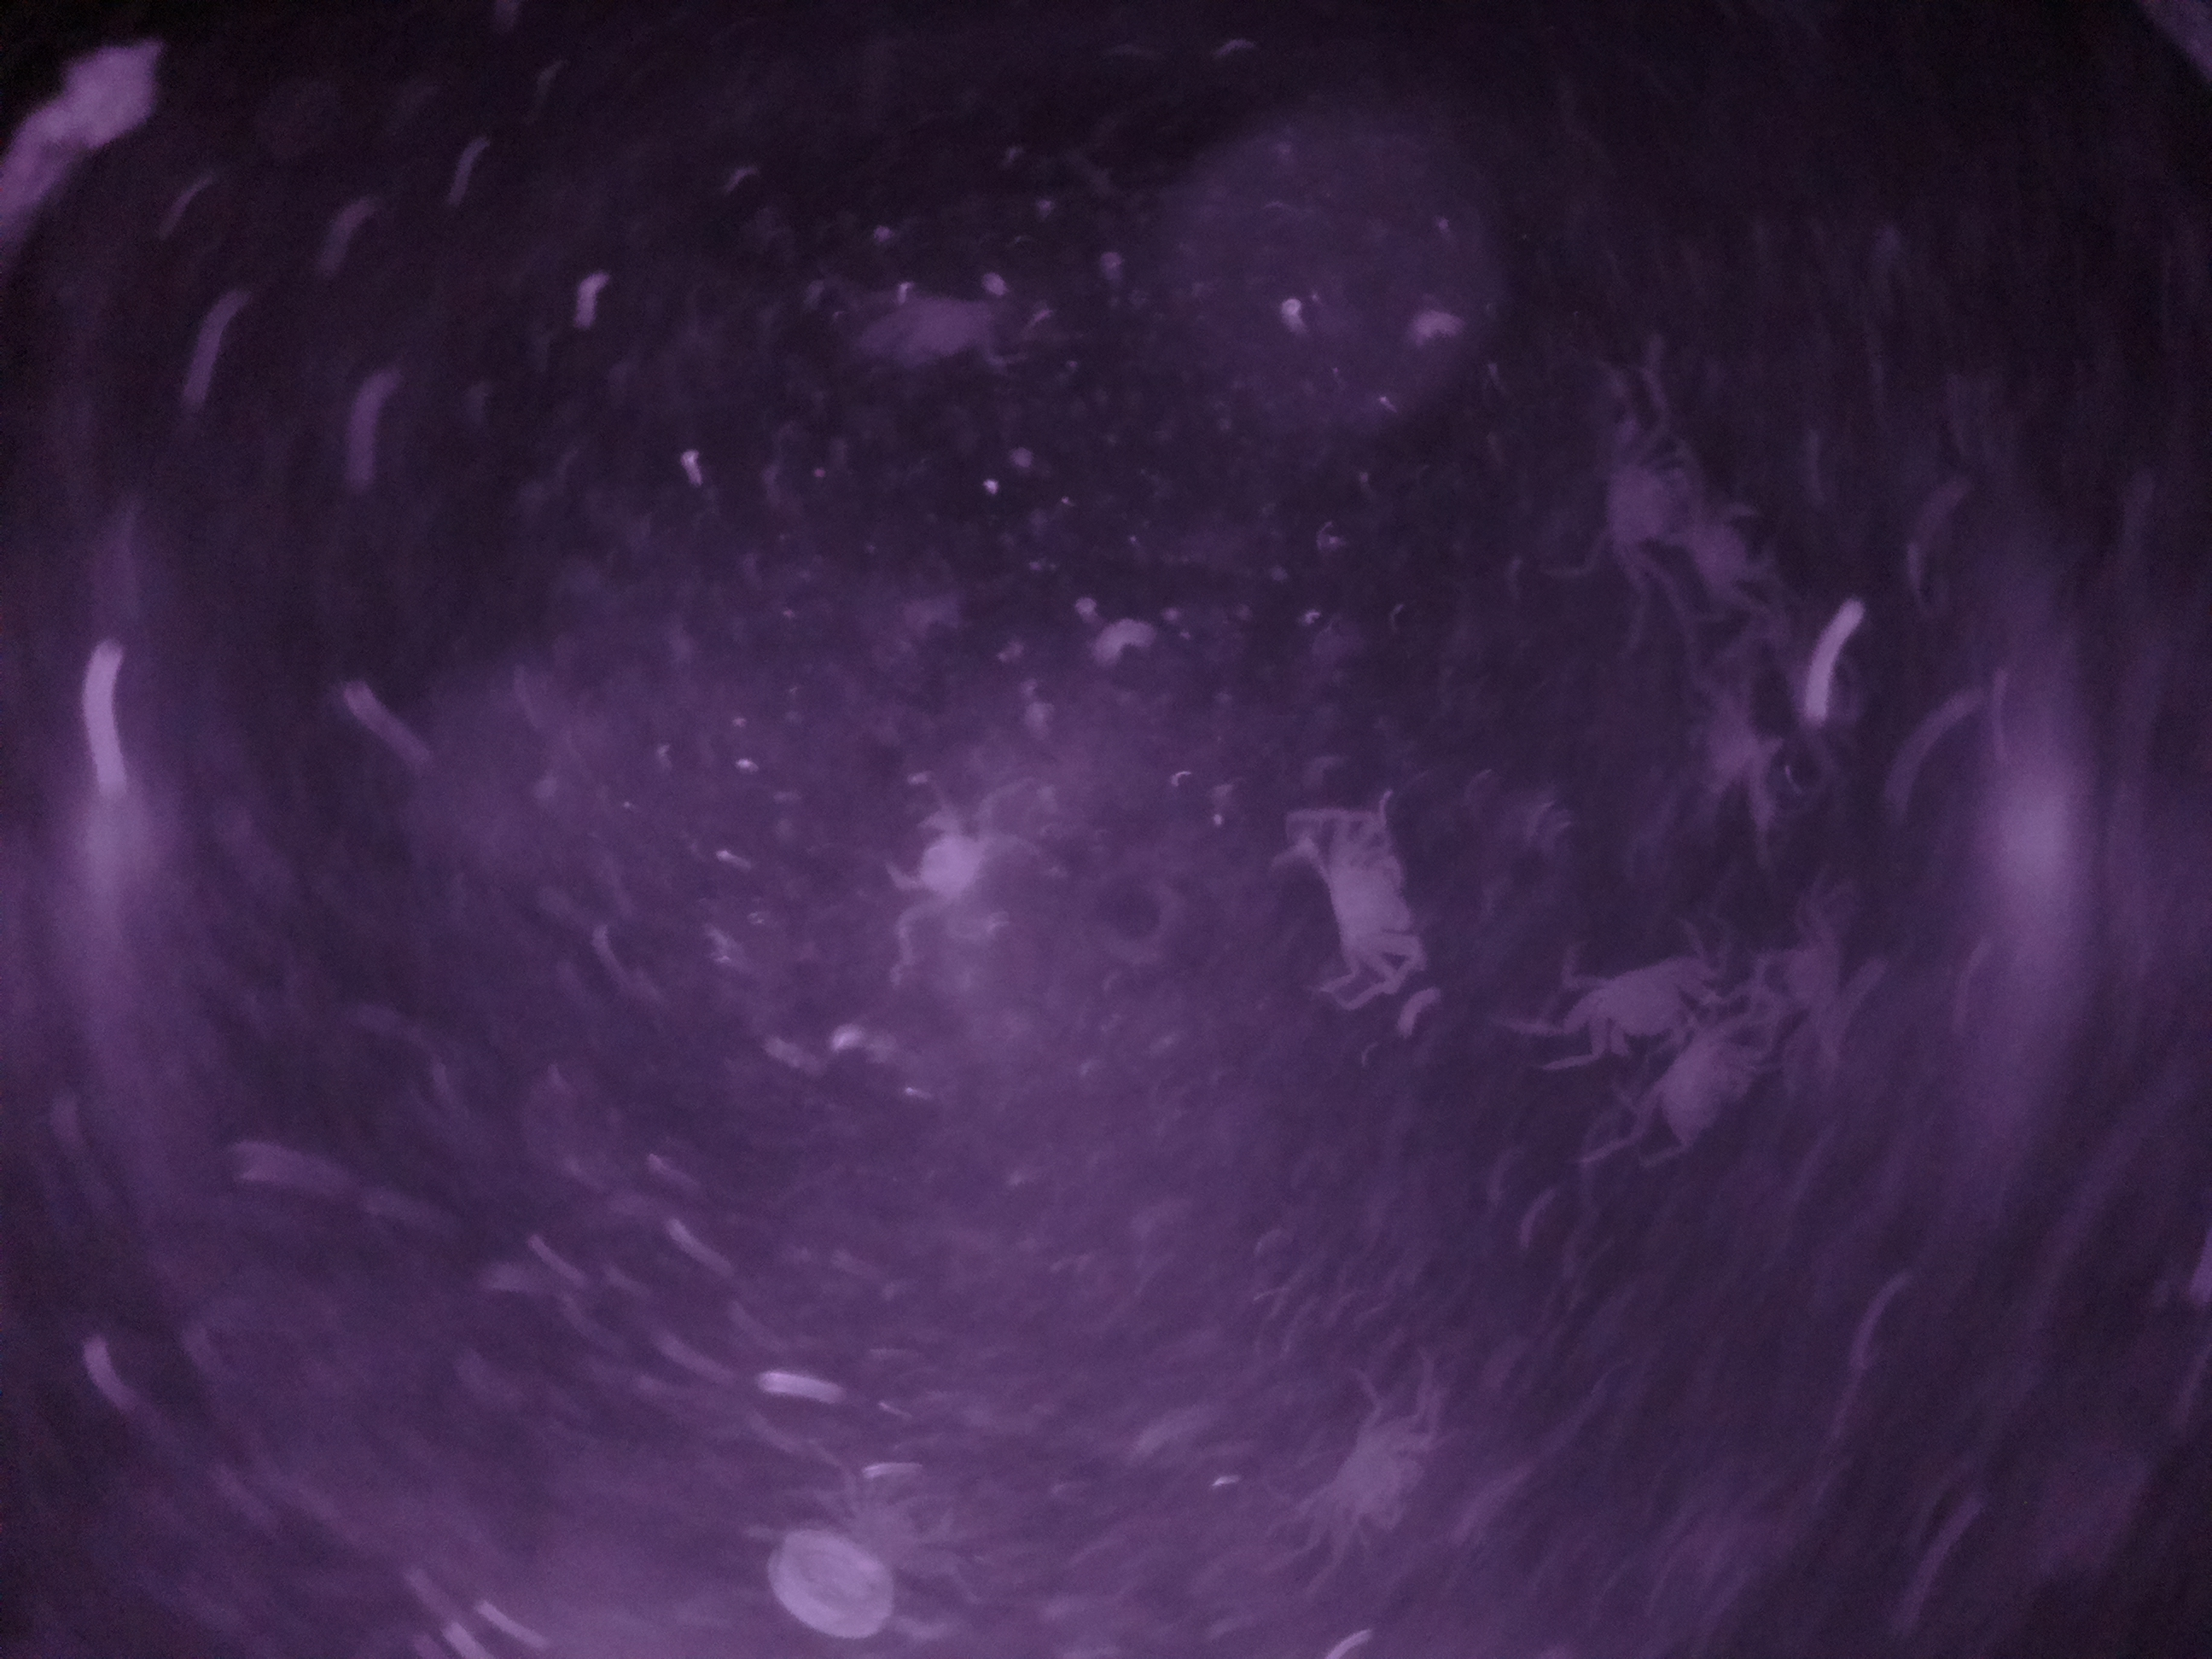Crab: (1306, 798, 1446, 988), (1554, 938, 1735, 1079)
